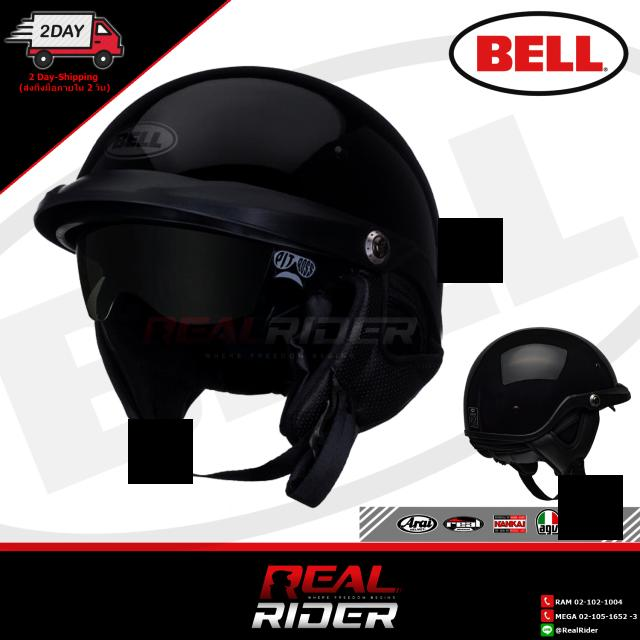Helmet: (35, 68, 442, 448), (464, 328, 630, 500)
